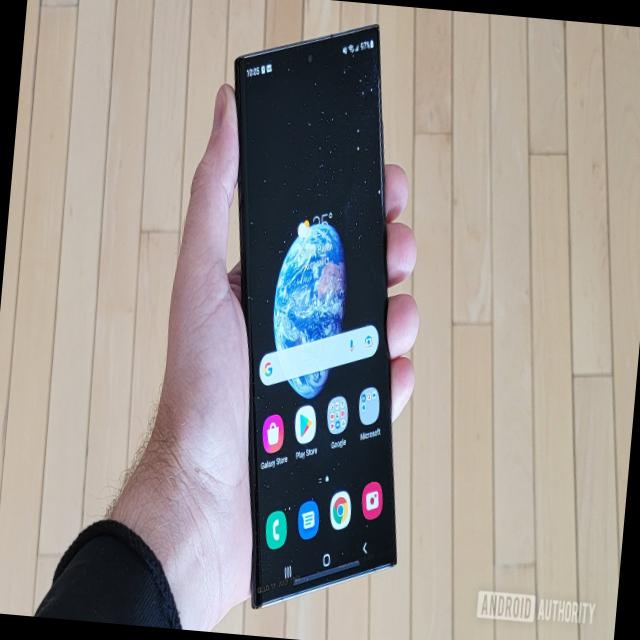mobile_phone: (207, 10, 406, 634)
